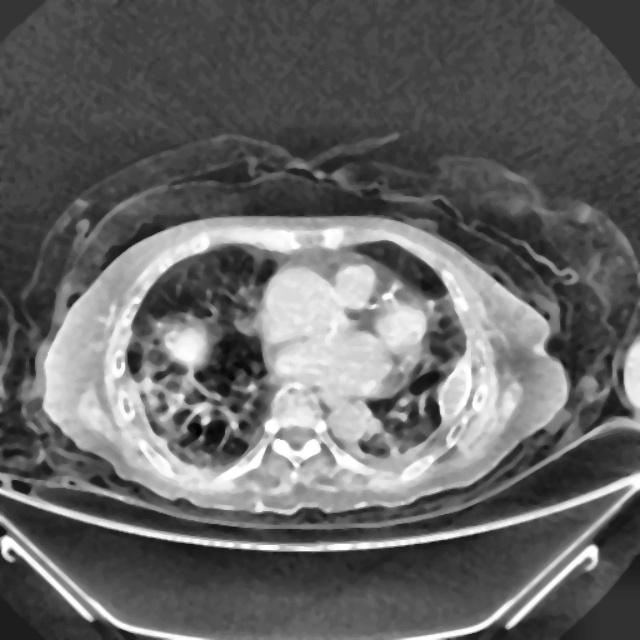covid: (39, 210, 571, 519)
